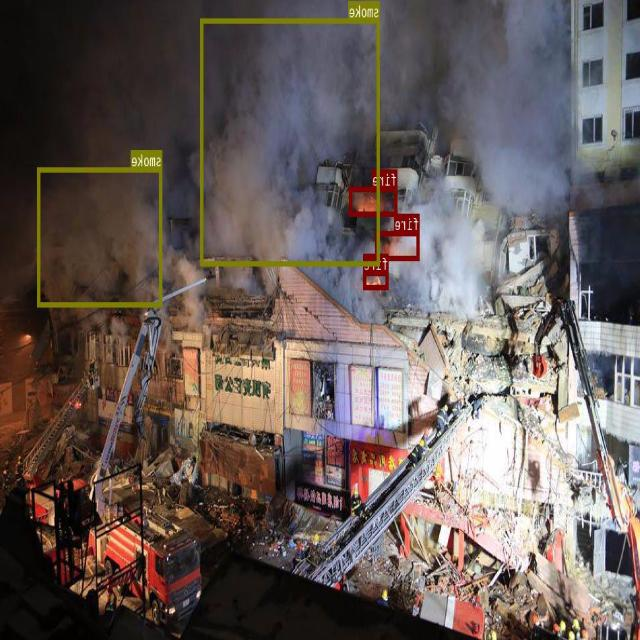fire: (350, 187, 398, 215), (376, 231, 420, 260), (364, 270, 389, 289)
smoke: (201, 18, 380, 264), (38, 167, 163, 306)
